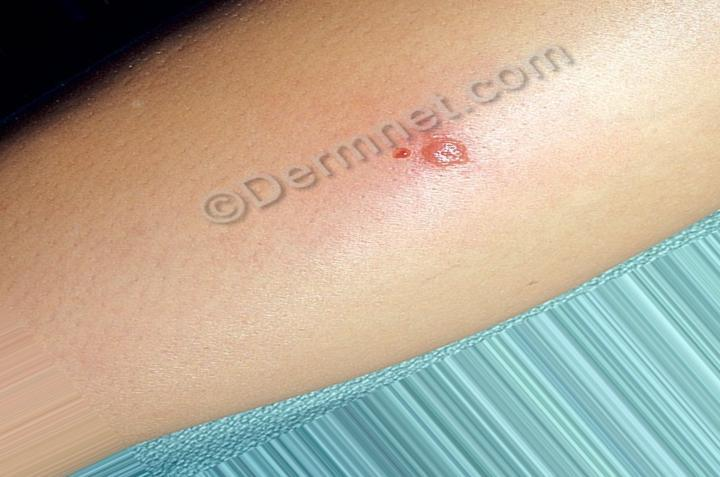Spider: (389, 123, 471, 186)
